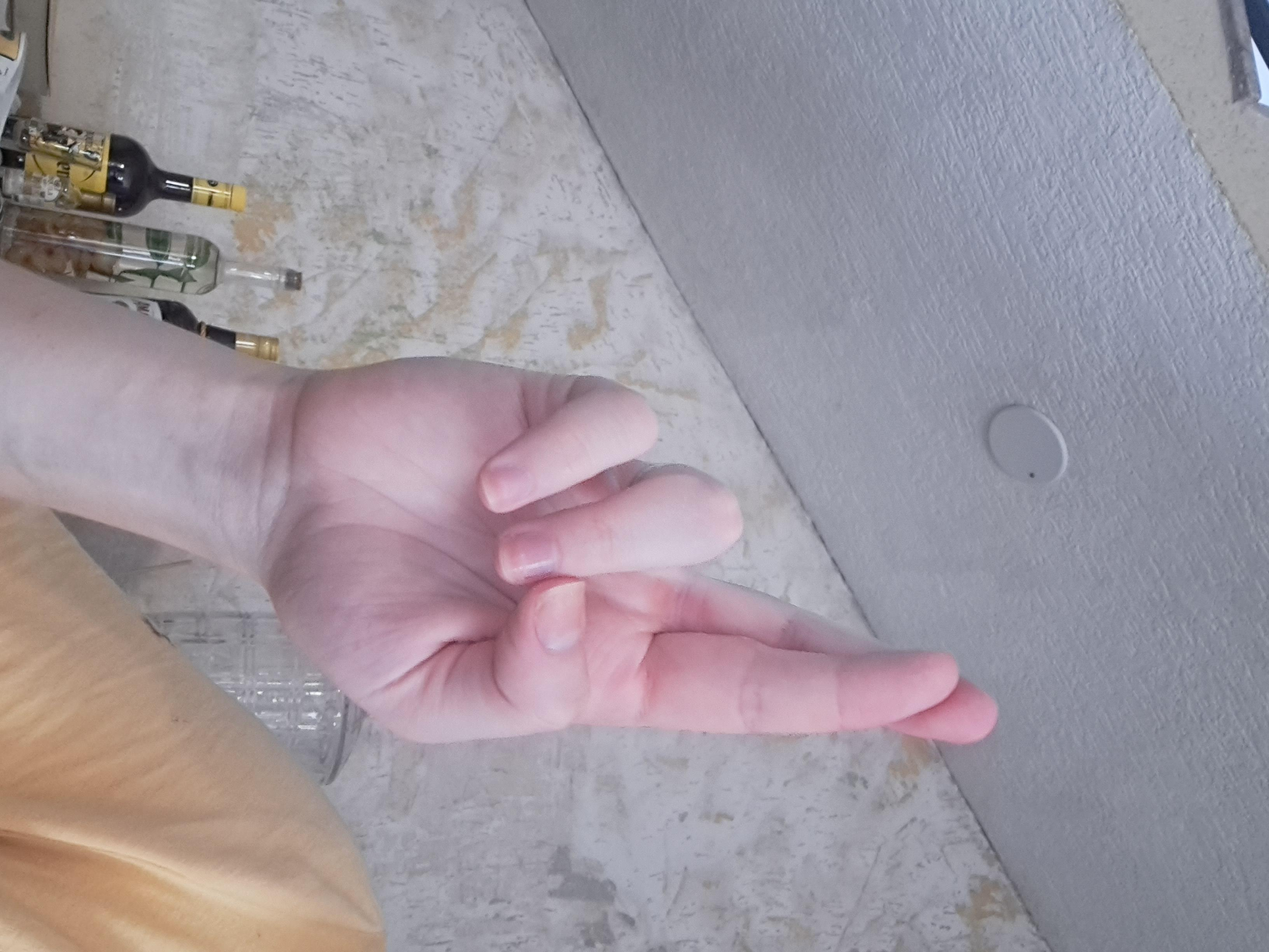R: (441, 195, 1042, 758)
